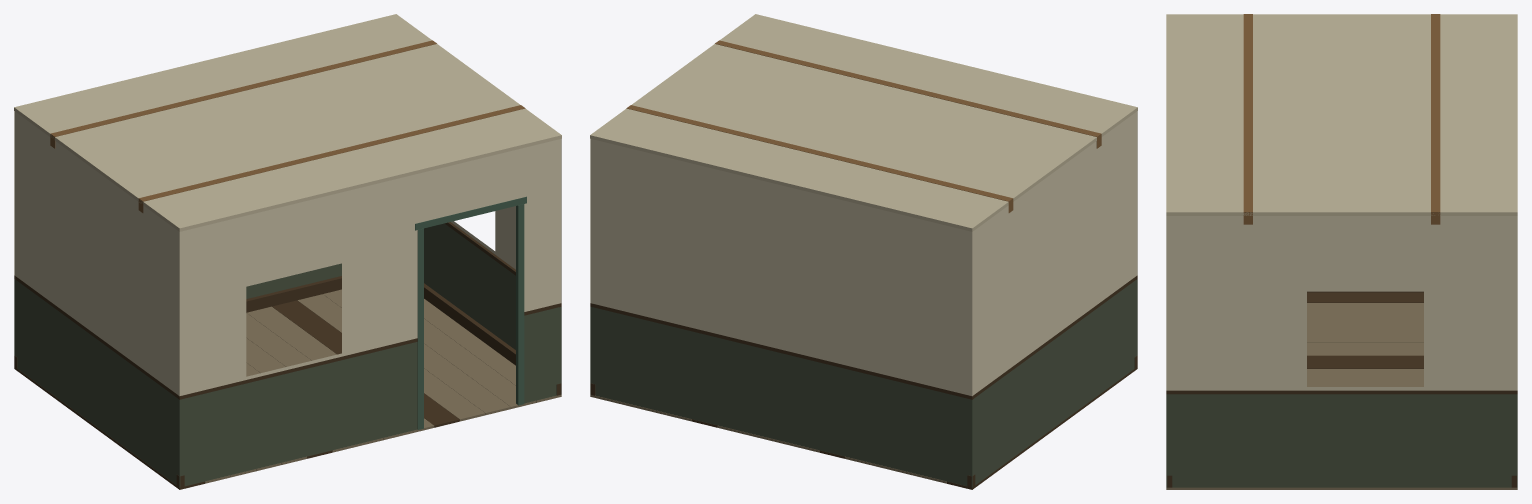
File: SM_FieldStation_Hut_Interior_LOD1.fbx
The picture shows the model from 3 angles, left to right: view 1: azimuth 30°, elevation 25°; view 2: azimuth 150°, elevation 25°; view 3: azimuth 270°, elevation 25°; orthographic projection. The views are drawn at different scales.
Visible parts, largest first — view 1: SM_FieldStation_Hut_Interior_LOD1; view 2: SM_FieldStation_Hut_Interior_LOD1; view 3: SM_FieldStation_Hut_Interior_LOD1.
Part boxes in pixels (x1=…): SM_FieldStation_Hut_Interior_LOD1: x1=14, y1=14, x2=561, y2=489; SM_FieldStation_Hut_Interior_LOD1: x1=590, y1=14, x2=1137, y2=489; SM_FieldStation_Hut_Interior_LOD1: x1=1166, y1=14, x2=1517, y2=489.
Bounding box in the file's own units: 4 × 3 × 2.62.
